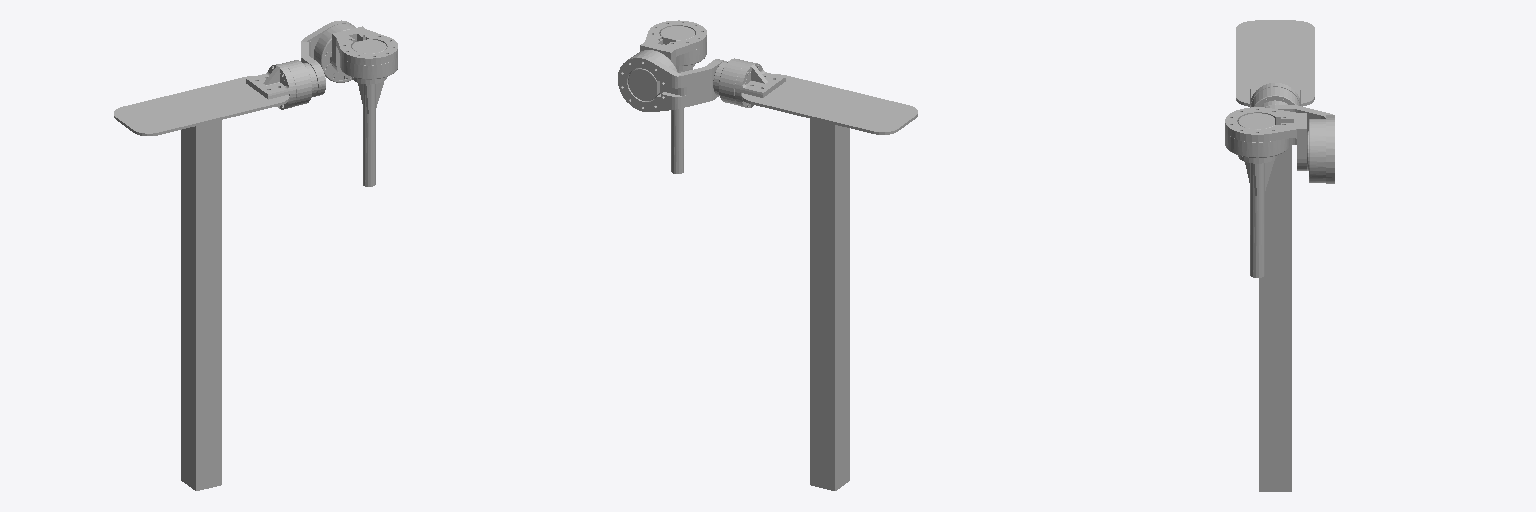
The robot description file, URDF, robot "gf3":
<?xml version="1.0" encoding="utf-8"?>
<robot
  name="gf3">
  <link
    name="base_link">
    <inertial>
      <origin
        xyz="0 0 0"
        rpy="0 0 0" />
      <mass
        value="0" />
      <inertia
        ixx="0"
        ixy="0"
        ixz="0"
        iyy="0"
        iyz="0"
        izz="0" />
    </inertial>
    <visual>
      <origin
        xyz="0 0 0"
        rpy="0 0 0" />
      <geometry>
        <mesh
          filename="package://gf3_description/meshes/base_link.STL" />
      </geometry>
      <material
        name="">
        <color
          rgba="0.75294 0.75294 0.75294 1" />
      </material>
    </visual>
    <collision>
      <origin
        xyz="0 0 0"
        rpy="0 0 0" />
      <geometry>
        <mesh
          filename="package://gf3_description/meshes/base_link.STL" />
      </geometry>
    </collision>
  </link>
  <link
    name="shoulder_1">
    <inertial>
      <origin
        xyz="0.143483235103531 0.0250123355737991 0.702729587168112"
        rpy="0 0 0" />
      <mass
        value="0.304968955908777" />
      <inertia
        ixx="0.000195934222549376"
        ixy="3.62075870294881E-13"
        ixz="-1.32765952891061E-06"
        iyy="0.000161270839111698"
        iyz="9.38593559269322E-12"
        izz="0.000184029805378281" />
    </inertial>
    <visual>
      <origin
        xyz="0 0 0"
        rpy="0 0 0" />
      <geometry>
        <mesh
          filename="package://gf3_description/meshes/shoulder_1.STL" />
      </geometry>
      <material
        name="">
        <color
          rgba="0.752941176470588 0.752941176470588 0.752941176470588 1" />
      </material>
    </visual>
    <collision>
      <origin
        xyz="0 0 0"
        rpy="0 0 0" />
      <geometry>
        <mesh
          filename="package://gf3_description/meshes/shoulder_1.STL" />
      </geometry>
    </collision>
  </link>
  <joint
    name="base_link_shoulder_1"
    type="fixed">
    <origin
      xyz="0 0 0"
      rpy="0 0 0" />
    <parent
      link="base_link" />
    <child
      link="shoulder_1" />
    <axis
      xyz="0 0 0" />
  </joint>
  <link
    name="shoulder_2">
    <inertial>
      <origin
        xyz="-0.00935681252853031 0.079150572505589 -0.0597717888530282"
        rpy="0 0 0" />
      <mass
        value="0.402167431900124" />
      <inertia
        ixx="0.000681722421314581"
        ixy="2.94723633624945E-05"
        ixz="-2.53719087675482E-06"
        iyy="0.000446003101679024"
        iyz="0.000188270353164379"
        izz="0.000665910291514535" />
    </inertial>
    <visual>
      <origin
        xyz="0 0 0"
        rpy="0 0 0" />
      <geometry>
        <mesh
          filename="package://gf3_description/meshes/shoulder_2.STL" />
      </geometry>
      <material
        name="">
        <color
          rgba="0.752941176470588 0.752941176470588 0.752941176470588 1" />
      </material>
    </visual>
    <collision>
      <origin
        xyz="0 0 0"
        rpy="0 0 0" />
      <geometry>
        <mesh
          filename="package://gf3_description/meshes/shoulder_2.STL" />
      </geometry>
    </collision>
  </link>
  <joint
    name="shoulder_1_shoulder_2"
    type="continuous">
    <origin
      xyz="0.186 0.025012 0.7024"
      rpy="0 1.4155 -1.5708" />
    <parent
      link="shoulder_1" />
    <child
      link="shoulder_2" />
    <axis
      xyz="0 1 0" />
  </joint>
  <link
    name="shoulder_3">
    <inertial>
      <origin
        xyz="-0.0269092135761492 0.0640846252957541 -1.53289660409506E-08"
        rpy="0 0 0" />
      <mass
        value="0.370585135046895" />
      <inertia
        ixx="0.000523354390280425"
        ixy="6.02723287451794E-05"
        ixz="-9.62981343736503E-11"
        iyy="0.000290540478475071"
        iyz="-7.2434133454519E-11"
        izz="0.00040667010432906" />
    </inertial>
    <visual>
      <origin
        xyz="0 0 0"
        rpy="0 0 0" />
      <geometry>
        <mesh
          filename="package://gf3_description/meshes/shoulder_3.STL" />
      </geometry>
      <material
        name="">
        <color
          rgba="0.752941176470588 0.752941176470588 0.752941176470588 1" />
      </material>
    </visual>
    <collision>
      <origin
        xyz="0 0 0"
        rpy="0 0 0" />
      <geometry>
        <mesh
          filename="package://gf3_description/meshes/shoulder_3.STL" />
      </geometry>
    </collision>
  </link>
  <joint
    name="shoulder_2_shoulder_3"
    type="continuous">
    <origin
      xyz="-0.007733 0.1005 -0.049398"
      rpy="1.5708 0.15528 0" />
    <parent
      link="shoulder_2" />
    <child
      link="shoulder_3" />
    <axis
      xyz="0 1 0" />
  </joint>
  <link
    name="upper_arm">
    <inertial>
      <origin
        xyz="-2.88566393003009E-12 -0.0579636903882207 1.1743425676336E-11"
        rpy="0 0 0" />
      <mass
        value="0.079380694983881" />
      <inertia
        ixx="0.000349386865286372"
        ixy="1.01029048780009E-14"
        ixz="-3.89234678559516E-15"
        iyy="2.37717514500075E-05"
        iyz="-2.72966992972112E-14"
        izz="0.00034938686529665" />
    </inertial>
    <visual>
      <origin
        xyz="0 0 0"
        rpy="0 0 0" />
      <geometry>
        <mesh
          filename="package://gf3_description/meshes/upper_arm.STL" />
      </geometry>
      <material
        name="">
        <color
          rgba="0.752941176470588 0.752941176470588 0.752941176470588 1" />
      </material>
    </visual>
    <collision>
      <origin
        xyz="0 0 0"
        rpy="0 0 0" />
      <geometry>
        <mesh
          filename="package://gf3_description/meshes/upper_arm.STL" />
      </geometry>
    </collision>
  </link>
  <joint
    name="shoulder_3_upper_arm"
    type="continuous">
    <origin
      xyz="-0.0075 0.077 0"
      rpy="-3.1416 -0.30797 -1.5708" />
    <parent
      link="shoulder_3" />
    <child
      link="upper_arm" />
    <axis
      xyz="0 -1 0" />
  </joint>
</robot>

--- Facts derived from the render (not from the file) ---
3 views of the same robot in one strip: view 1: azimuth 30°, elevation 25°; view 2: azimuth 150°, elevation 25°; view 3: azimuth 270°, elevation 25° (orthographic).
Model gf3 with 5 links and 4 joints (3 continuous, 1 fixed), rooted at base_link, posed every joint at zero.
Visible links, largest first — view 1: base_link, shoulder_3, shoulder_1, shoulder_2, upper_arm; view 2: base_link, shoulder_2, shoulder_3, shoulder_1, upper_arm; view 3: base_link, shoulder_3, shoulder_2, upper_arm, shoulder_1.
Link boxes in pixels (x1,y1,x2,y2): base_link: [114, 76, 289, 490]; shoulder_3: [332, 26, 397, 79]; shoulder_1: [246, 60, 317, 109]; shoulder_2: [301, 20, 355, 96]; upper_arm: [352, 77, 386, 186]; base_link: [742, 74, 917, 490]; shoulder_2: [618, 50, 723, 111]; shoulder_3: [640, 20, 706, 66]; shoulder_1: [713, 58, 785, 107]; upper_arm: [671, 64, 694, 173]; base_link: [1236, 20, 1314, 491]; shoulder_3: [1225, 107, 1306, 170]; shoulder_2: [1265, 105, 1334, 183]; upper_arm: [1238, 155, 1276, 277]; shoulder_1: [1250, 83, 1300, 107].
Size in the robot's own frame: 0.511 by 0.1663 by 0.7524 metres.
Meshes: 5 distinct files referenced, 5 mesh visuals loaded (5 binary STL).